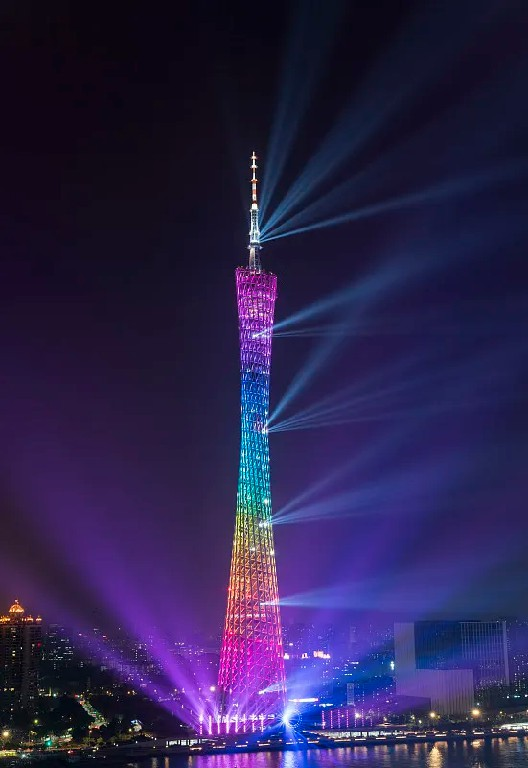Canton: (210, 145, 291, 725)
